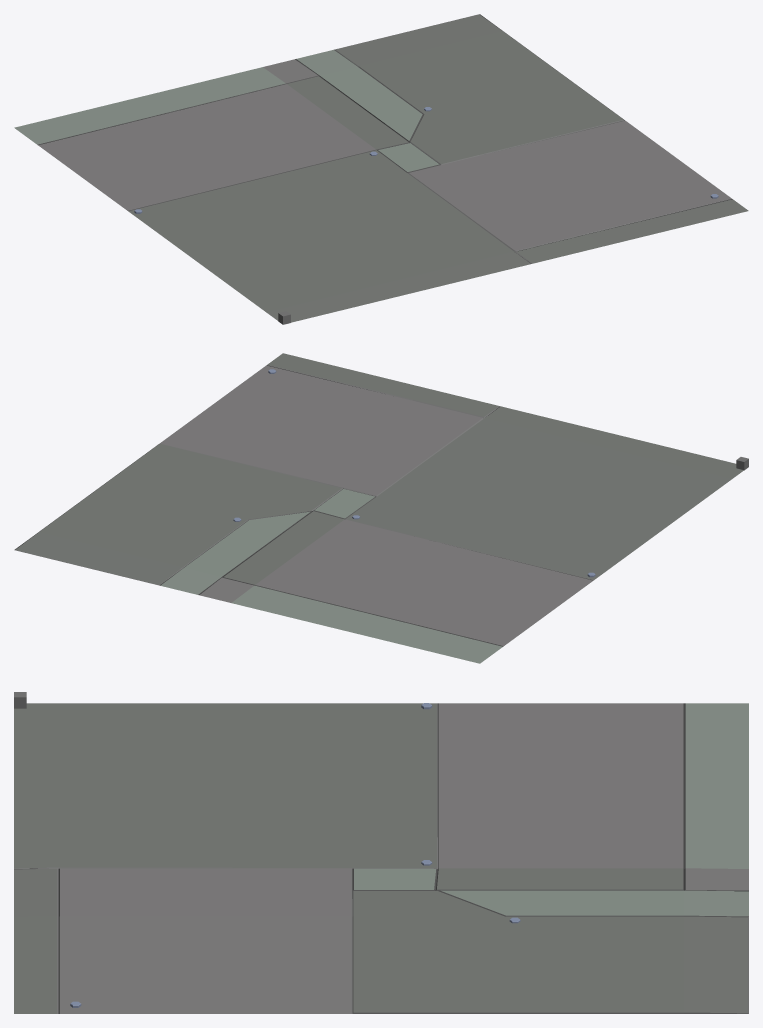
File: OpenFork_A.gltf
3 renders of one model, top to bottom at view 1: azimuth 30°, elevation 25°; view 2: azimuth 150°, elevation 25°; view 3: azimuth 270°, elevation 25°, orthographic. The views are drawn at different scales.
Parts seen in each view (by area): view 1: Scifi_Panel_04_Plaza014_group4.011_Scifi_Panel_04_Plaza014_.; view 2: Scifi_Panel_04_Plaza014_group4.011_Scifi_Panel_04_Plaza014_.; view 3: Scifi_Panel_04_Plaza014_group4.011_Scifi_Panel_04_Plaza014_..
Boxes of the visible parts, left/top/right/bottom form: Scifi_Panel_04_Plaza014_group4.011_Scifi_Panel_04_Plaza014_.: left=14, top=14, right=748, bottom=324; Scifi_Panel_04_Plaza014_group4.011_Scifi_Panel_04_Plaza014_.: left=14, top=353, right=748, bottom=663; Scifi_Panel_04_Plaza014_group4.011_Scifi_Panel_04_Plaza014_.: left=14, top=692, right=748, bottom=1013.
Bounding box in the file's own units: 10 × 0.1734 × 10.
1 material, 1 textured.
